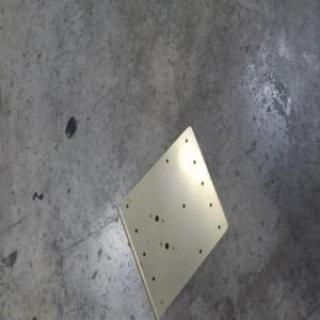MetalSheettrack_idkeyframe: (114, 125, 228, 319)
